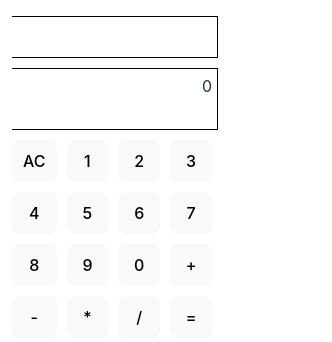
Calculator component › handleOperation setPendingOperation and setCurrentValue
Click the button with test id "button-5".
click(87, 213)  # box [66, 192, 108, 234]
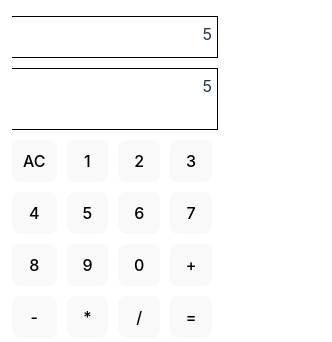
Click the button "+".
click(191, 265)  # box [170, 244, 212, 286]
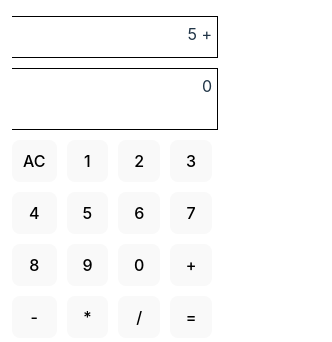
Expected: the text "5 +" is shown, [6, 16, 218, 58]
Expected: the text with test id "display" reads "0", [202, 76, 212, 96]
